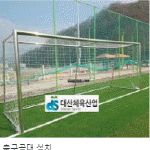goals: (1, 28, 143, 136)
